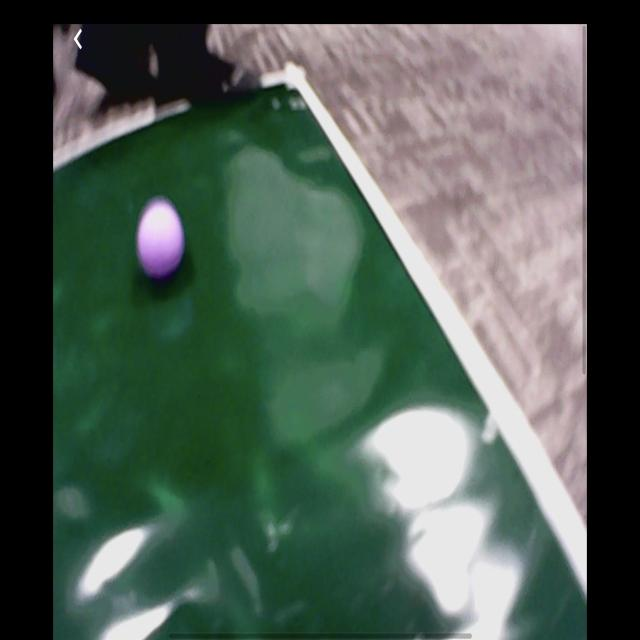ball: (135, 196, 187, 281)
